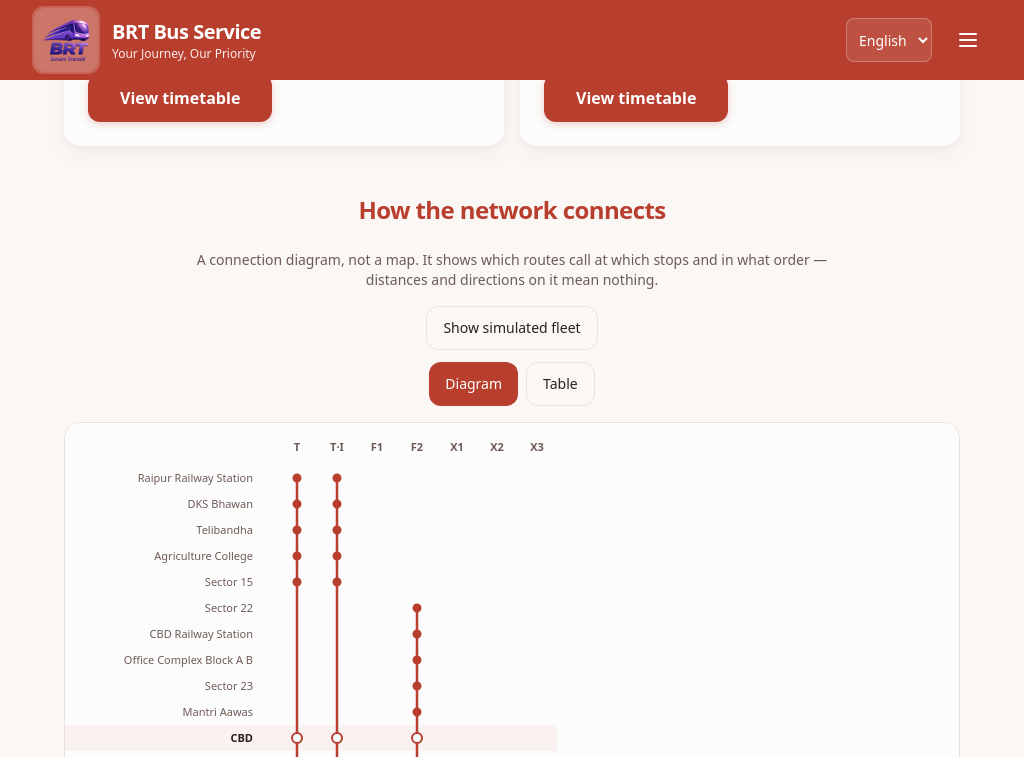
Scenario: seeing how the network connects › names the routes you can change between at an interchange
(page scrolled)
Click the button "Table".
click(560, 384)  # box [526,362,595,406]
(page scrolled)
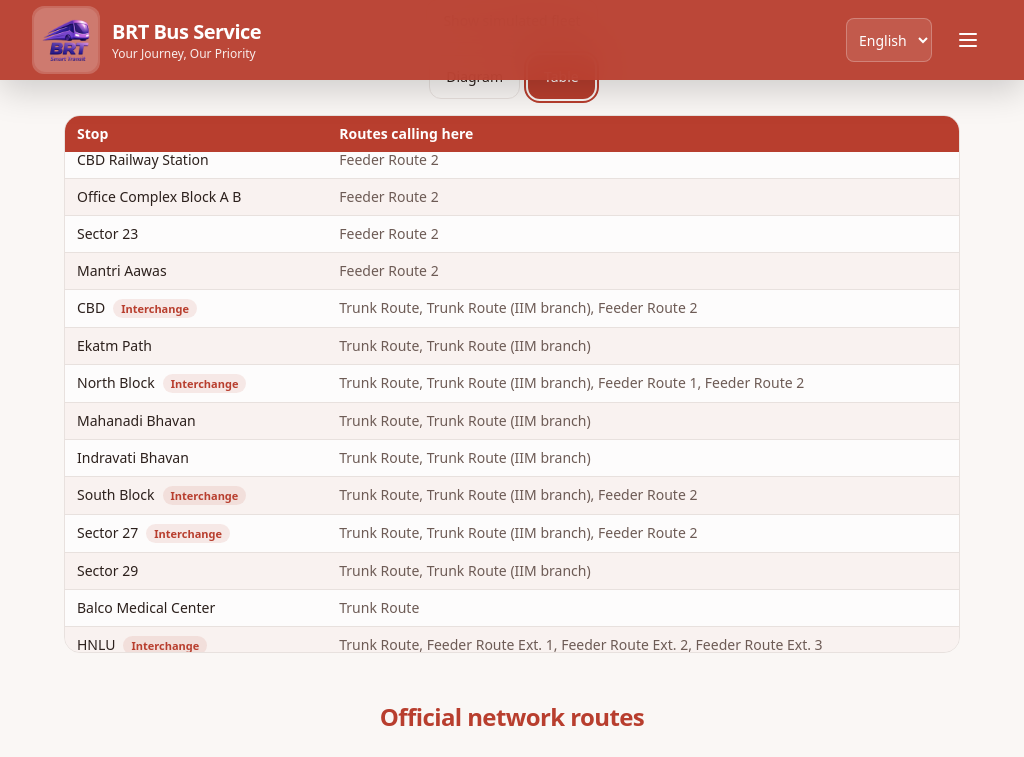
Expected: the row "North Block" shows "Interchange", [171,376,238,391]
Expected: the row "North Block" shows "Trunk Route", [339,373,804,392]
Expected: the row "North Block" shows "Feeder Route 1", [339,373,804,392]
